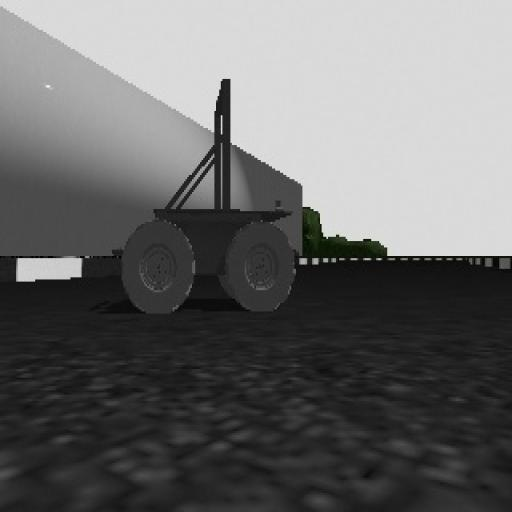huskya200: (99, 68, 300, 325)
